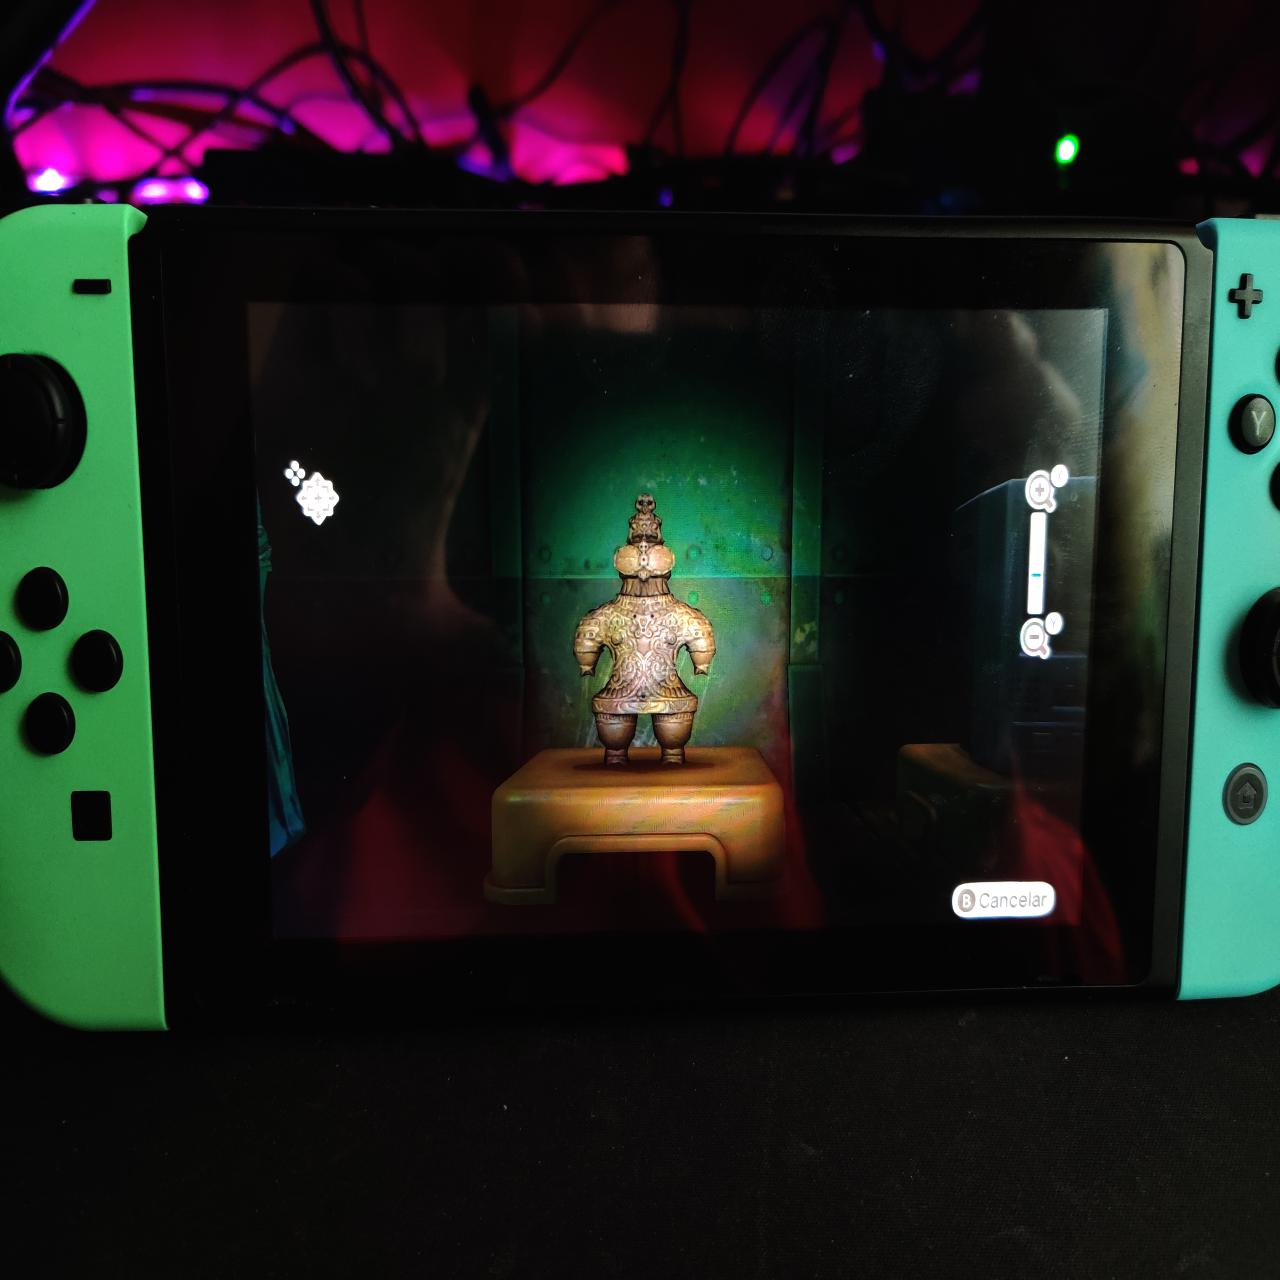Doguu: (571, 485, 719, 769)
